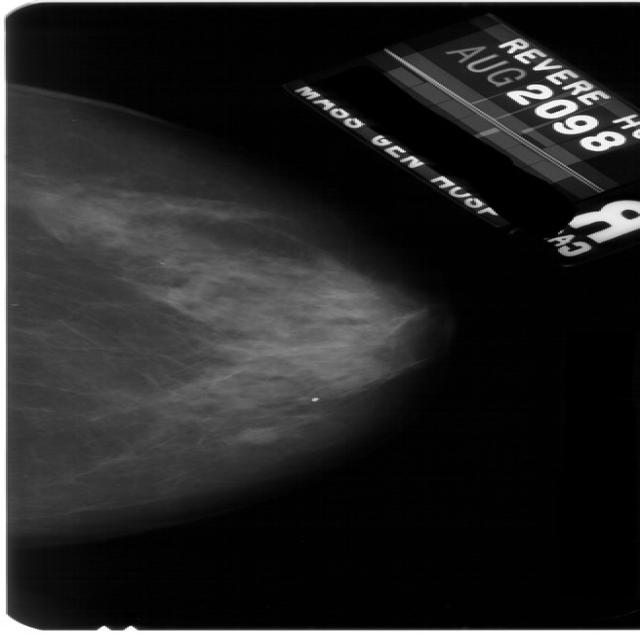tumour: (230, 425, 277, 444)
